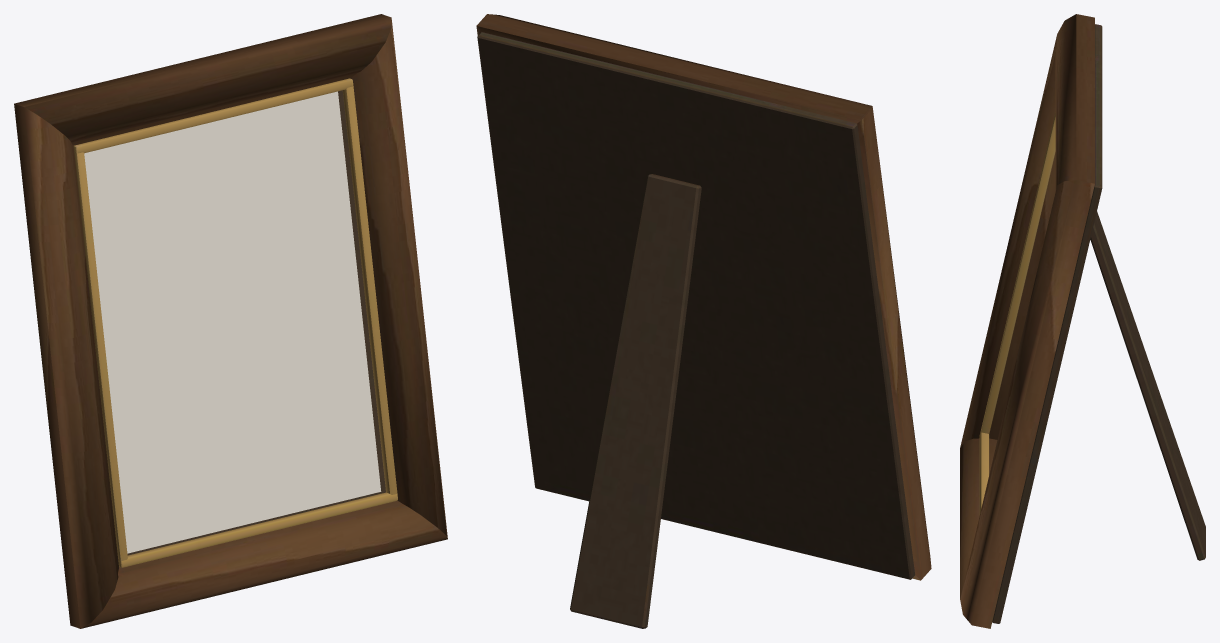
The model's file is w51frame.glb.
The picture shows the model from 3 angles, left to right: view 1: azimuth 30°, elevation 25°; view 2: azimuth 150°, elevation 25°; view 3: azimuth 270°, elevation 25°; orthographic projection. The views are drawn at different scales.
Visible parts, largest first — view 1: picture, frame; view 2: frame; view 3: frame.
Part boxes in pixels (box(x1,y1,x2,y2)): picture: box(84, 91, 381, 553); frame: box(14, 14, 447, 628); frame: box(476, 14, 931, 628); frame: box(960, 14, 1205, 628).
Size of the model in its own units: 0.18 by 0.2268 by 0.1126.
2 materials, 1 textured.
